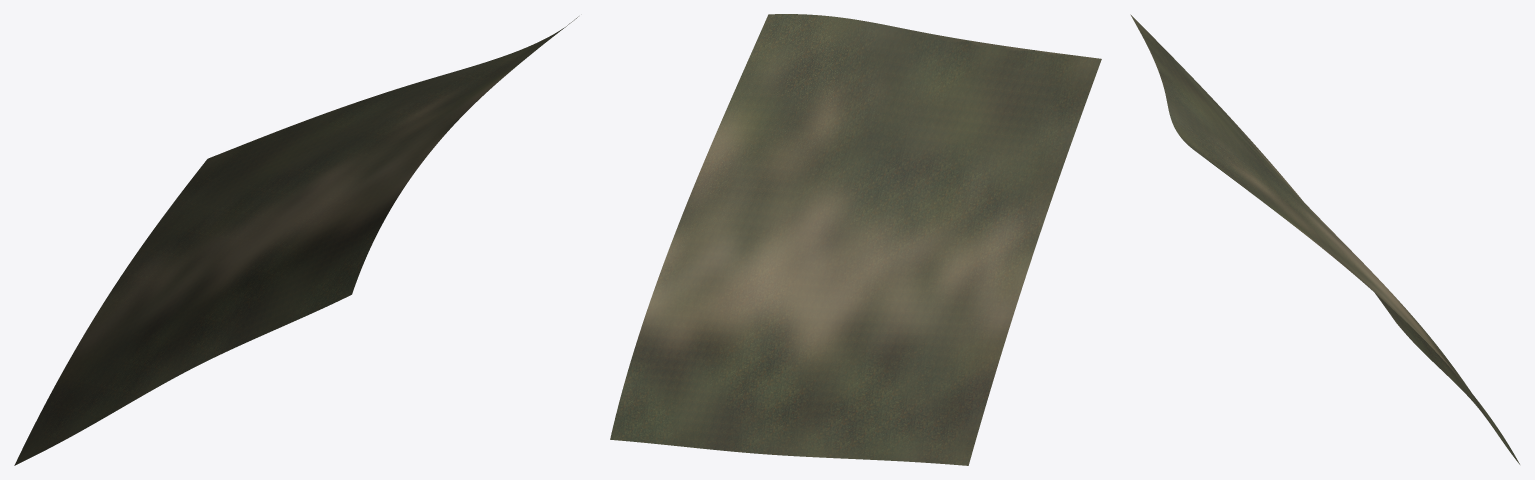
The model's file is ground_core_02_07.obj.
The picture shows the model from 3 angles, left to right: view 1: azimuth 30°, elevation 25°; view 2: azimuth 150°, elevation 25°; view 3: azimuth 270°, elevation 25°; orthographic projection. The views are drawn at different scales.
Parts seen in each view (by area): view 1: ground_core_02_07; view 2: ground_core_02_07; view 3: ground_core_02_07.
Part boxes in pixels (bbox=[...]): ground_core_02_07: bbox=[14, 16, 578, 465]; ground_core_02_07: bbox=[610, 14, 1101, 465]; ground_core_02_07: bbox=[1130, 14, 1519, 464].
Size of the model in its own units: 50 by 50 by 57.44.
Materials: 1 (1 with a texture image).
